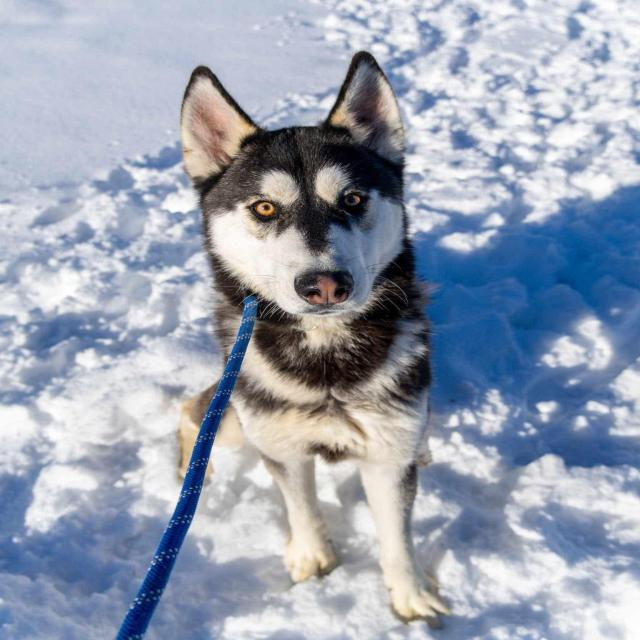siberian_husky_dog: (168, 41, 427, 337)
